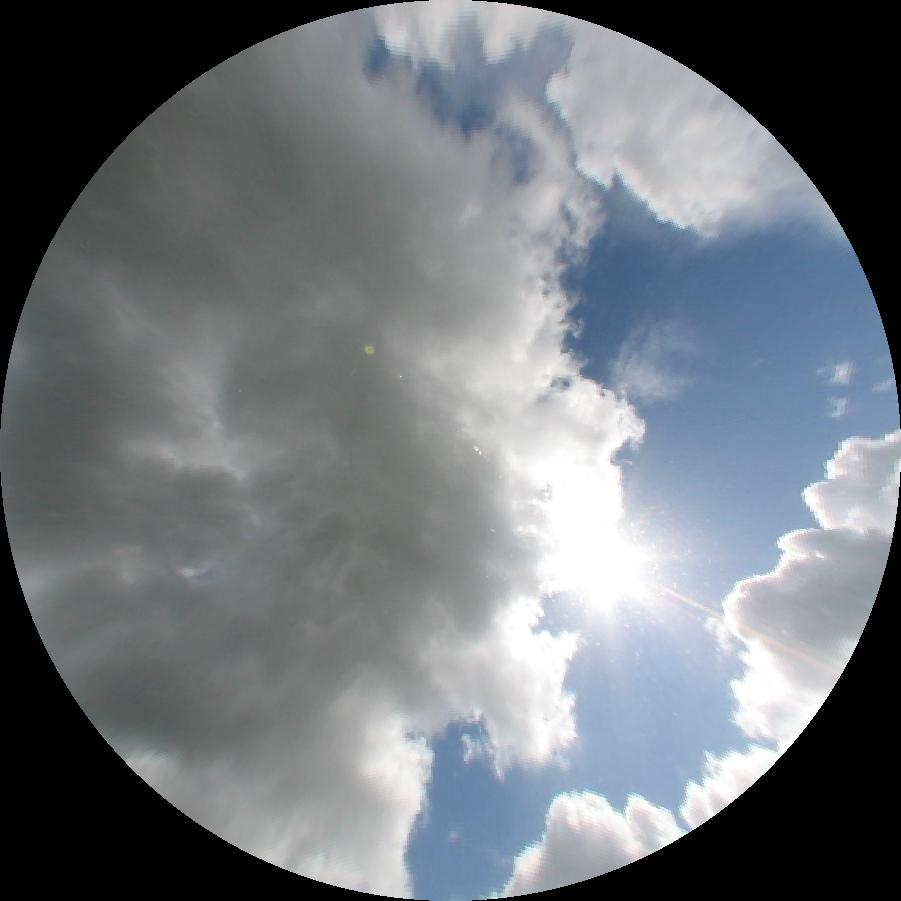contrail young: (742, 357, 763, 371)
parasite: (645, 580, 842, 677)
sun: (578, 527, 645, 604)
